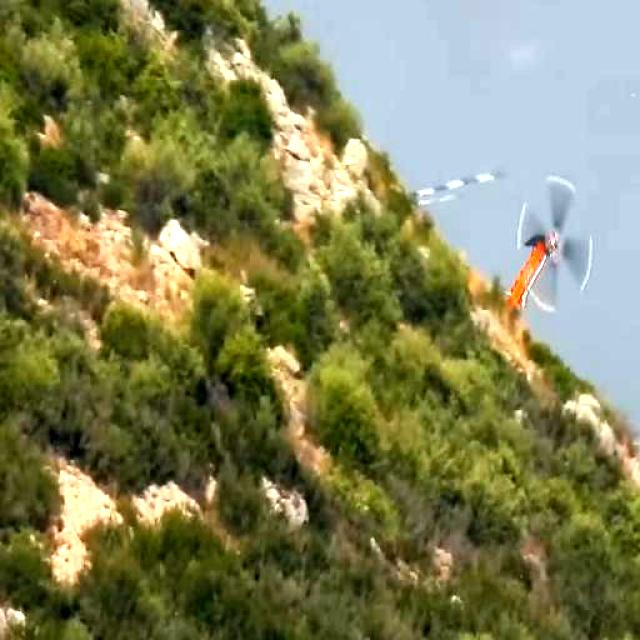drone: (460, 155, 591, 330)
